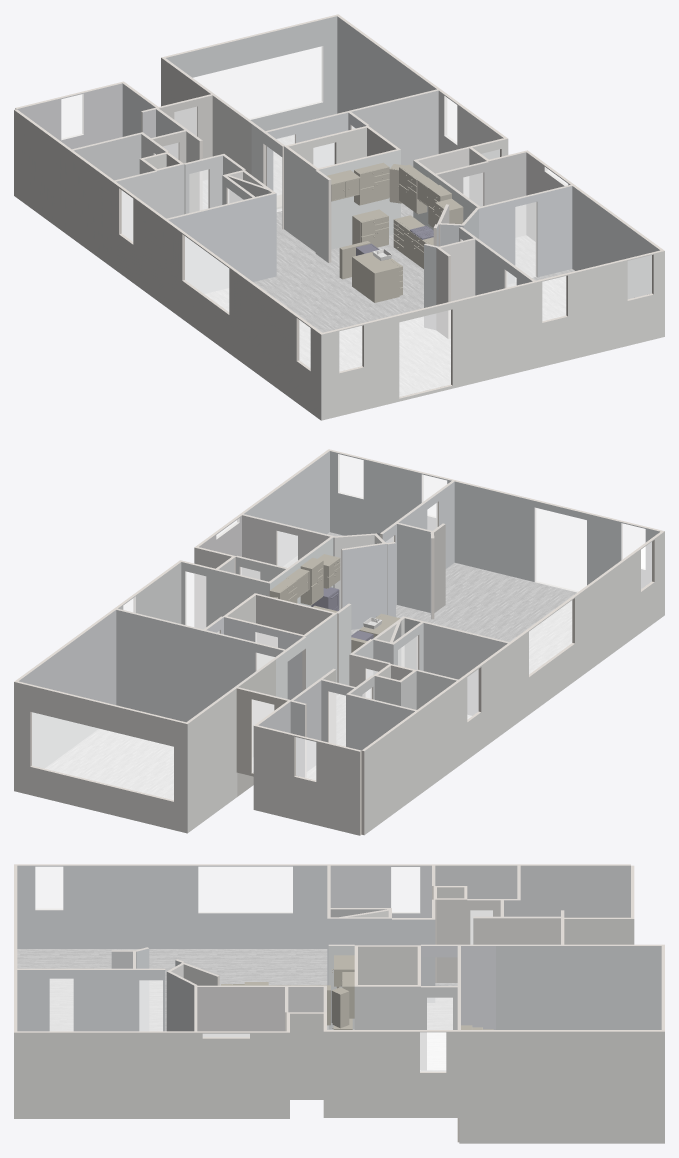
Rendered from officeRoom.glb.
3 renders of one model, top to bottom at view 1: azimuth 30°, elevation 25°; view 2: azimuth 150°, elevation 25°; view 3: azimuth 270°, elevation 25°, orthographic. The views are drawn at different scales.
Parts seen in each view (by area): view 1: ceiling_Kitchen_0, ceiling_Other_0, wall_48 (×3), wall_42, floor_Kitchen_0, door_11 (×2), ceiling_Other_1, wall_43, door_6 (×2), ceiling_Other_2, wall_0, ceiling_Other_3 (+53 smaller); view 2: ceiling_Kitchen_0, ceiling_Other_0, wall_48 (×3), door_11 (×2), wall_0, ceiling_Other_1, wall_42, floor_Kitchen_0, wall_50, wall_2, door_6 (×2), ceiling_Other_2 (+49 smaller); view 3: ceiling_Kitchen_0, wall_48 (×3), wall_38, ceiling_Other_0, wall_1, wall_60, wall_37, ceiling_Other_1, floor_Kitchen_0, window_6 (×2), wall_5, ceiling_Other_2 (+39 smaller).
Boxes of the visible parts, left/top/right/bottom form: ceiling_Kitchen_0: left=168, top=150, right=532, bottom=332; ceiling_Other_0: left=165, top=17, right=436, bottom=131; wall_48 (×3): left=112, top=181, right=321, bottom=420; wall_42: left=321, top=282, right=535, bottom=420; floor_Kitchen_0: left=205, top=234, right=450, bottom=396; door_11 (×2): left=193, top=46, right=322, bottom=119; ceiling_Other_1: left=463, top=186, right=658, bottom=280; wall_43: left=536, top=251, right=664, bottom=368; door_6 (×2): left=399, top=310, right=450, bottom=396; ceiling_Other_2: left=151, top=95, right=328, bottom=191; wall_0: left=166, top=16, right=337, bottom=138; ceiling_Other_3: left=18, top=84, right=184, bottom=149; ceiling_Kitchen_0: left=256, top=481, right=658, bottom=641; ceiling_Other_0: left=20, top=610, right=284, bottom=721; wall_48 (×3): left=458, top=531, right=664, bottom=764; door_11 (×2): left=32, top=712, right=173, bottom=799; wall_0: left=14, top=682, right=187, bottom=833; ceiling_Other_1: left=244, top=451, right=451, bottom=535; wall_42: left=454, top=481, right=659, bottom=588; floor_Kitchen_0: left=351, top=563, right=576, bottom=673; wall_50: left=116, top=610, right=203, bottom=722; wall_2: left=253, top=726, right=359, bottom=835; door_6 (×2): left=535, top=508, right=586, bottom=592; ceiling_Other_2: left=237, top=604, right=401, bottom=700; ceiling_Kitchen_0: left=18, top=866, right=353, bottom=985; wall_48 (×3): left=15, top=864, right=433, bottom=948; wall_38: left=459, top=1031, right=664, bottom=1143; ceiling_Other_0: left=460, top=946, right=660, bottom=1029; wall_1: left=14, top=1032, right=195, bottom=1118; wall_60: left=496, top=946, right=661, bottom=1029; wall_37: left=323, top=1031, right=459, bottom=1117; ceiling_Other_1: left=18, top=970, right=194, bottom=1030; floor_Kitchen_0: left=17, top=949, right=354, bottom=1031; window_6 (×2): left=198, top=867, right=292, bottom=912; wall_5: left=195, top=1032, right=289, bottom=1118; ceiling_Other_2: left=329, top=900, right=561, bottom=944.
Bounding box in the file's own units: 12.15 × 3.77 × 19.84.
169 materials, 16 textured.
